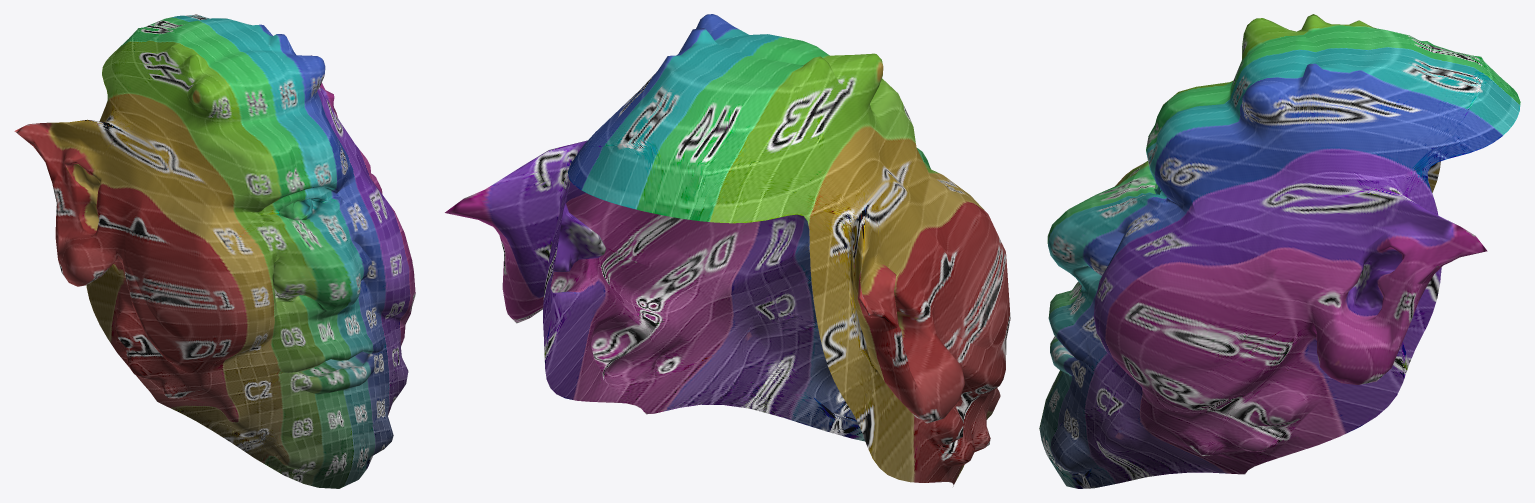
3 renders of one model, left to right at view 1: azimuth 30°, elevation 25°; view 2: azimuth 150°, elevation 25°; view 3: azimuth 270°, elevation 25°, orthographic. The views are drawn at different scales.
Parts seen in each view (by area): view 1: pMesh1; view 2: pMesh1; view 3: pMesh1.
Boxes of the visible parts, x1,y1,x2,y2 form: pMesh1: (14,14,415,488); pMesh1: (445,14,1010,486); pMesh1: (1039,14,1520,488).
Bounding box in the file's own units: 1.06 × 1.19 × 1.18.
Materials: 1 (1 with a texture image).
